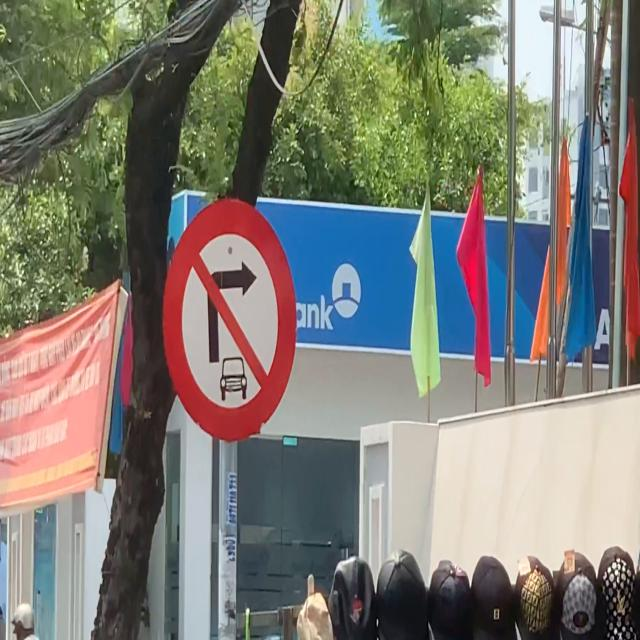Cam re phai: (162, 198, 298, 442)
